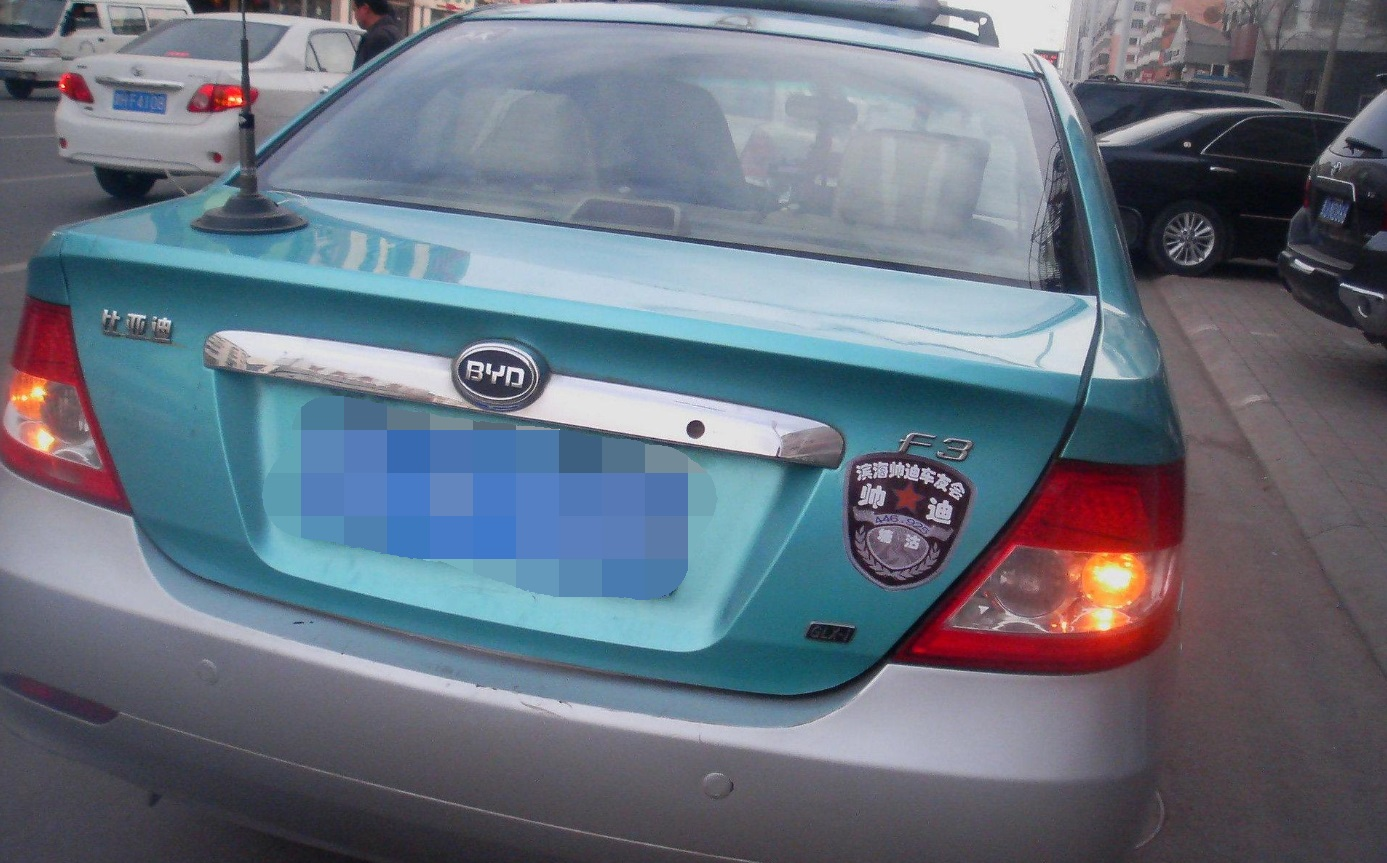taxi: (3, 2, 1192, 863)
